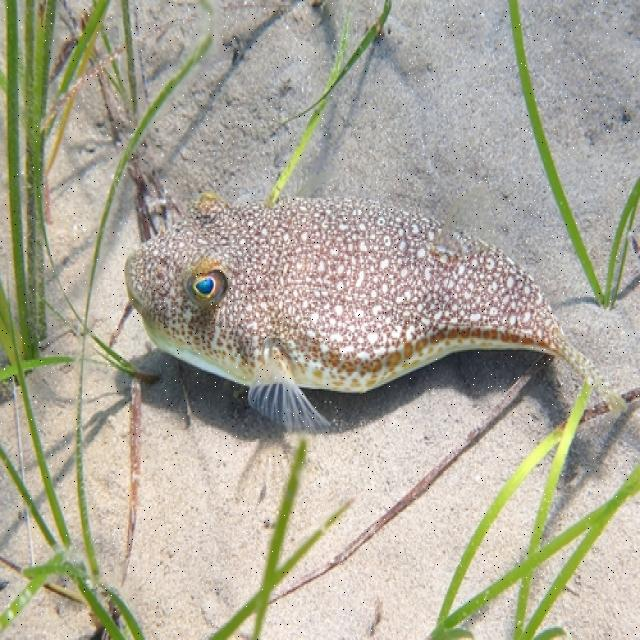Balik: (126, 195, 624, 430)
